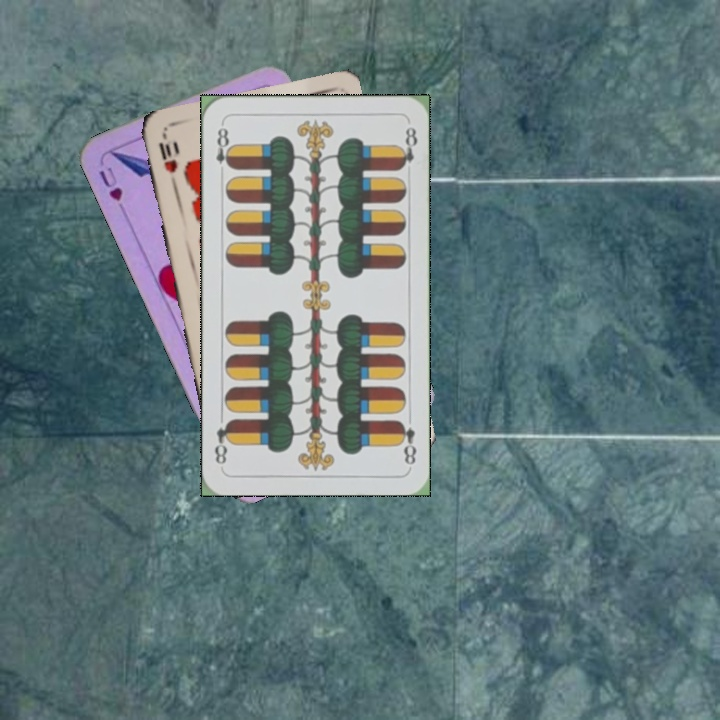E8: (212, 120, 235, 179), (394, 416, 419, 467)
H10: (154, 138, 180, 190)
HU: (95, 162, 126, 204)
